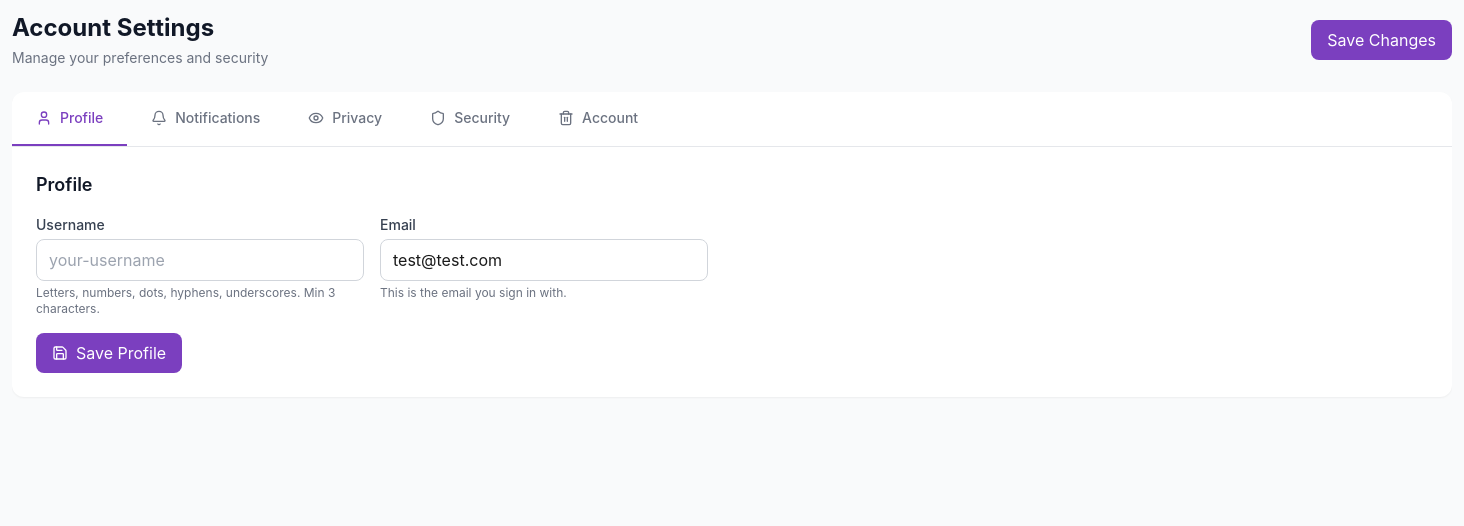
Scenario: Settings › switches to Account tab and shows Delete Account section
This screenshot has width=1464, height=526.
Step 1. Click the button "Account" → (598, 119), box top-left (534, 92), bottom-right (662, 146)
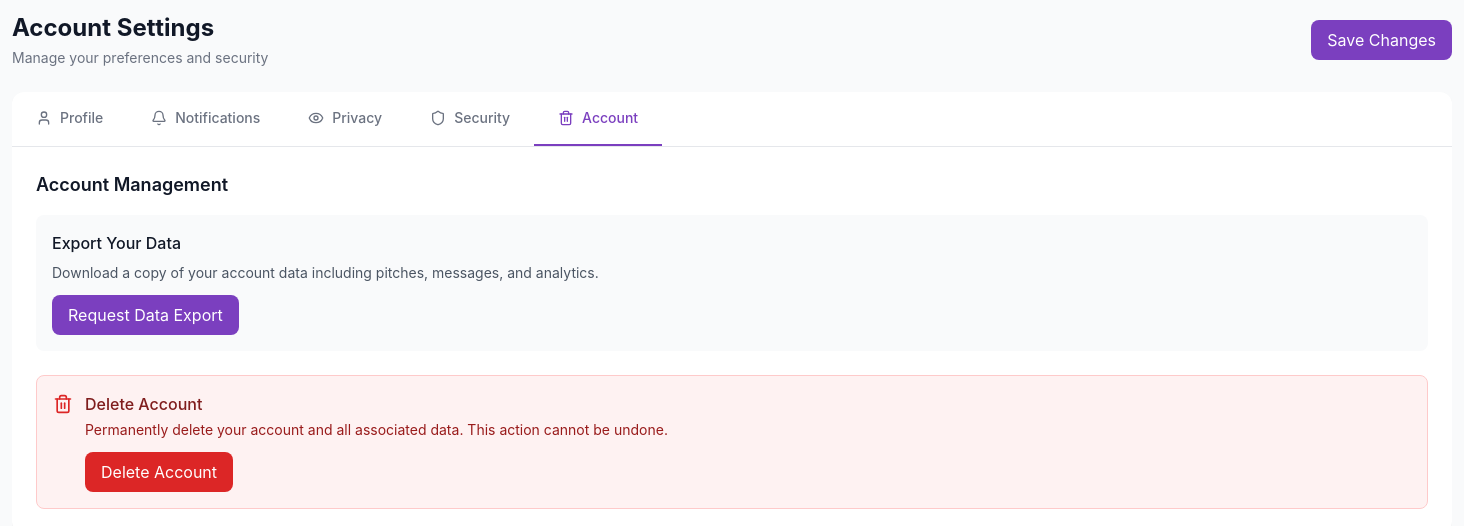
Expected: the heading "Account Management" is shown, top-left (36, 174), bottom-right (228, 195)
Expected: the heading "Delete Account" is shown, top-left (85, 394), bottom-right (202, 414)
